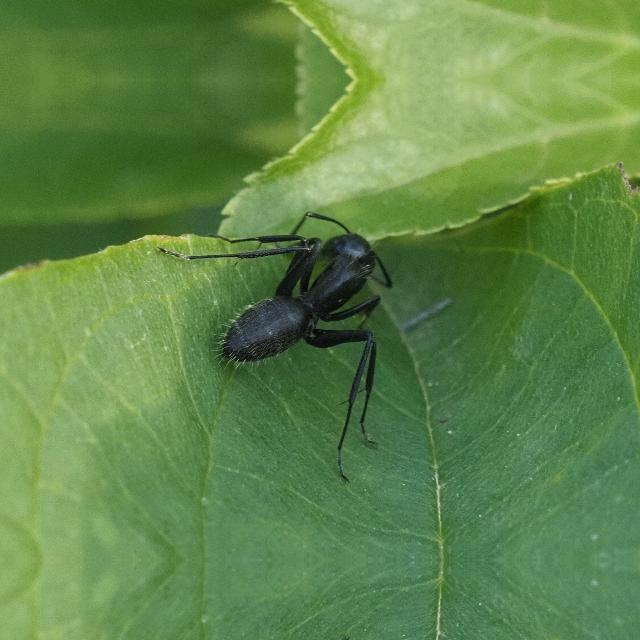Camponotus: (187, 206, 405, 394)
